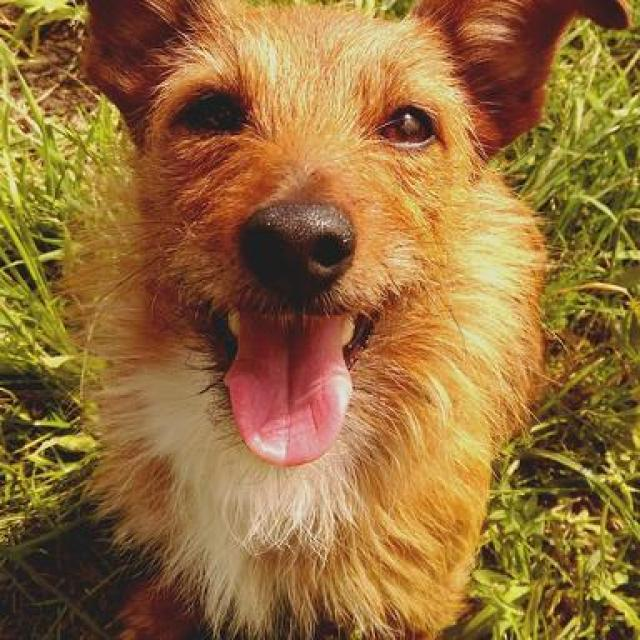adult_dog: (63, 0, 629, 640)
